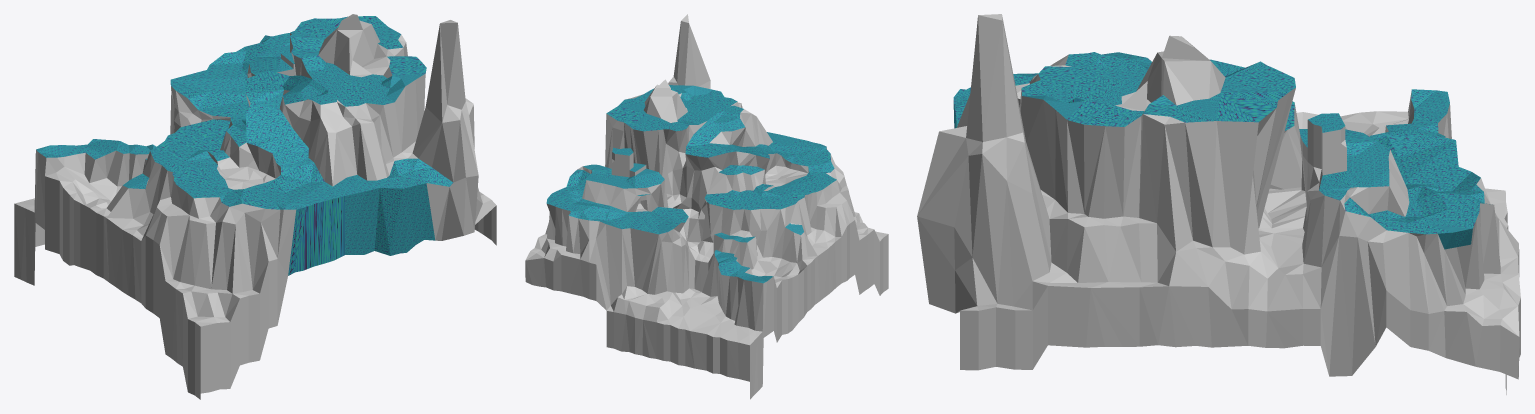
File: Terrain_Cliff.fbx
3 renders of one model, left to right at view 1: azimuth 30°, elevation 25°; view 2: azimuth 150°, elevation 25°; view 3: azimuth 270°, elevation 25°, orthographic. The views are drawn at different scales.
Visible parts, largest first — view 1: Mountains; view 2: Mountains; view 3: Mountains.
Part boxes in pixels (x1,y1,x2,y2): Mountains: (14, 14, 496, 399); Mountains: (525, 14, 888, 399); Mountains: (917, 14, 1520, 394).
Size of the model in its own units: 9320 by 9467 by 10997.
